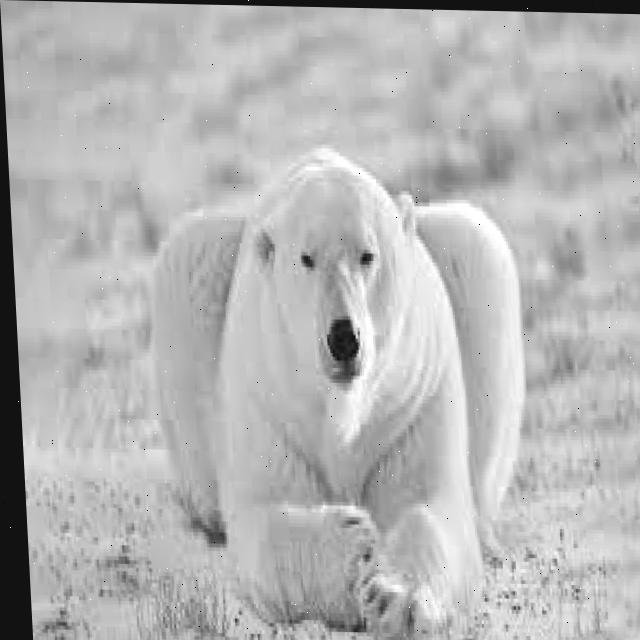Bear: (137, 181, 556, 640)
